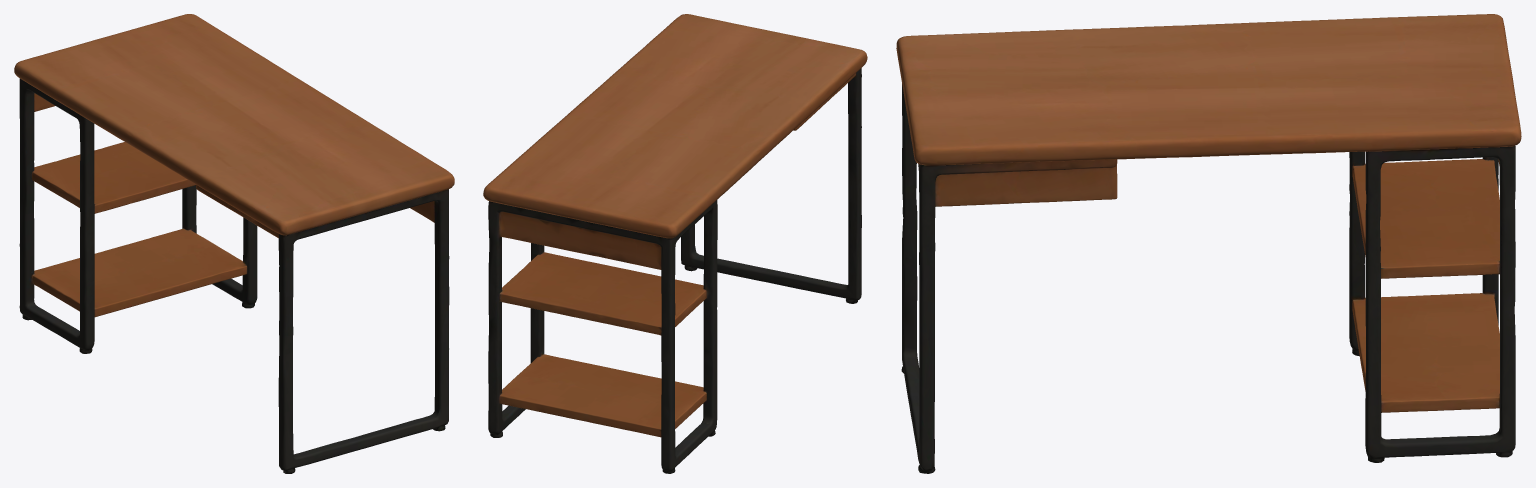
File: 06-mesa.glb
The picture shows the model from 3 angles, left to right: view 1: azimuth 30°, elevation 25°; view 2: azimuth 150°, elevation 25°; view 3: azimuth 270°, elevation 25°; orthographic projection. The views are drawn at different scales.
Visible parts, largest first — view 1: tripo_node_424ba08d-fca9-4957-aa19-d93f2fc2484d; view 2: tripo_node_424ba08d-fca9-4957-aa19-d93f2fc2484d; view 3: tripo_node_424ba08d-fca9-4957-aa19-d93f2fc2484d.
Part boxes in pixels (x1,y1,x2,y2): tripo_node_424ba08d-fca9-4957-aa19-d93f2fc2484d: [14, 14, 454, 473]; tripo_node_424ba08d-fca9-4957-aa19-d93f2fc2484d: [483, 14, 867, 473]; tripo_node_424ba08d-fca9-4957-aa19-d93f2fc2484d: [896, 14, 1521, 473].
Bounding box in the file's own units: 0.5217 × 0.5828 × 1.
Materials: 1 (1 with a texture image).
